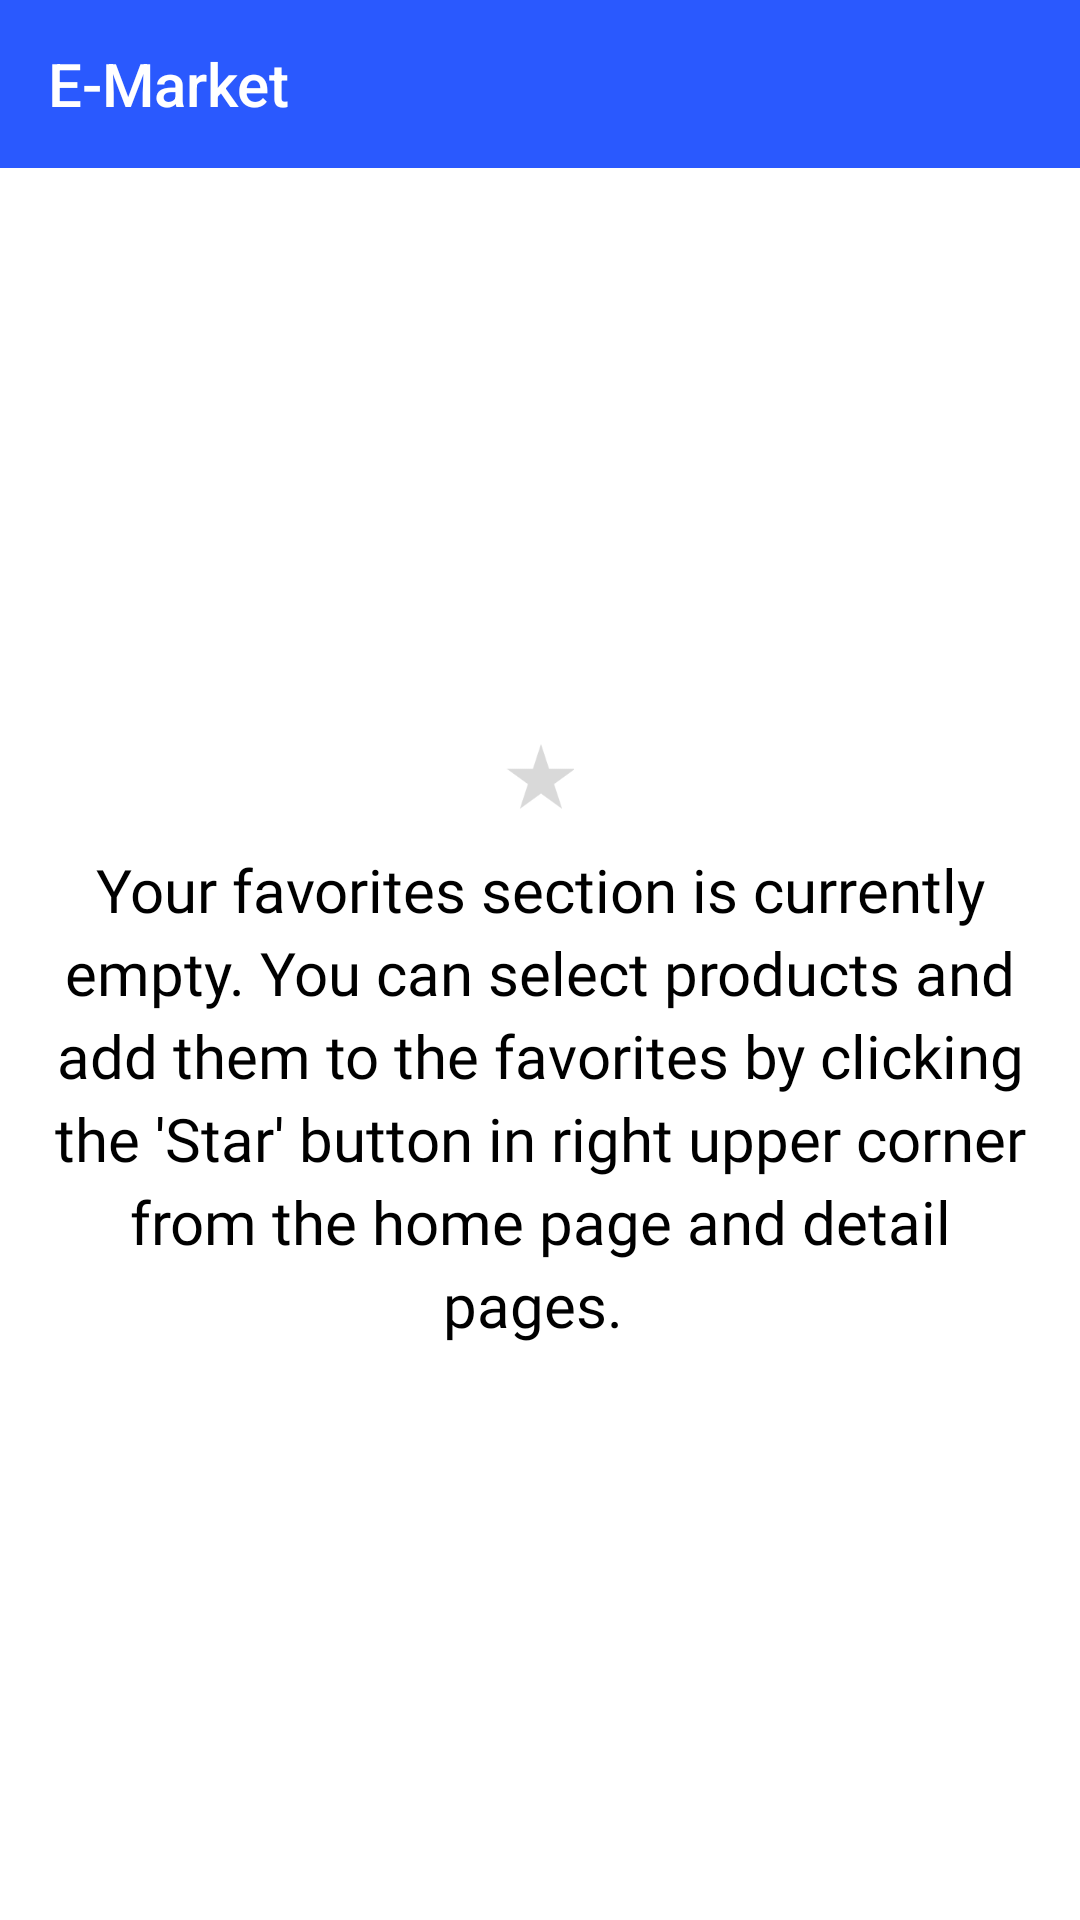

Locate icon controls on the screen. Image size 1080×1920, boxes as (x1, y1, x2, y2).
unsaved: (508, 746, 574, 807)
